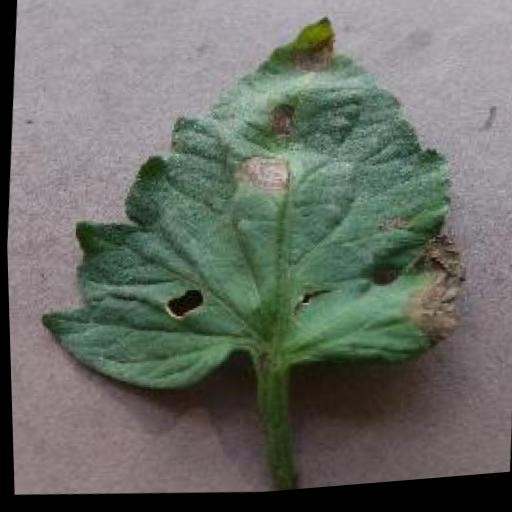Early Blight: (25, 0, 484, 423)
